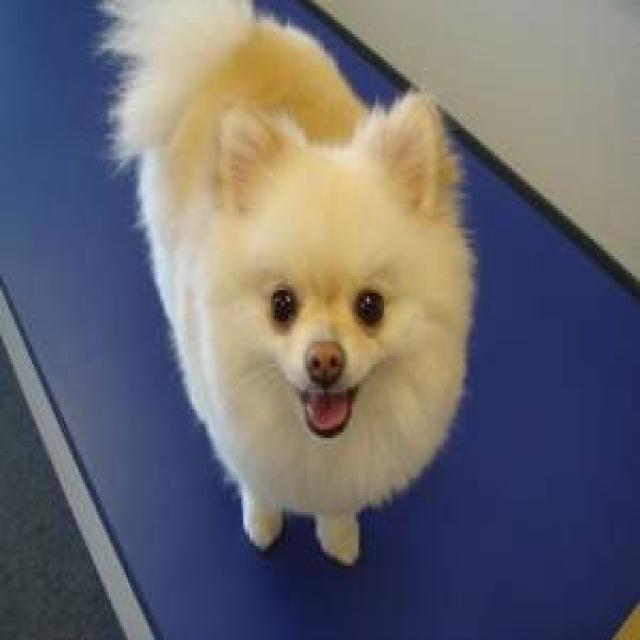dog-pomeranian: (113, 3, 482, 569)
